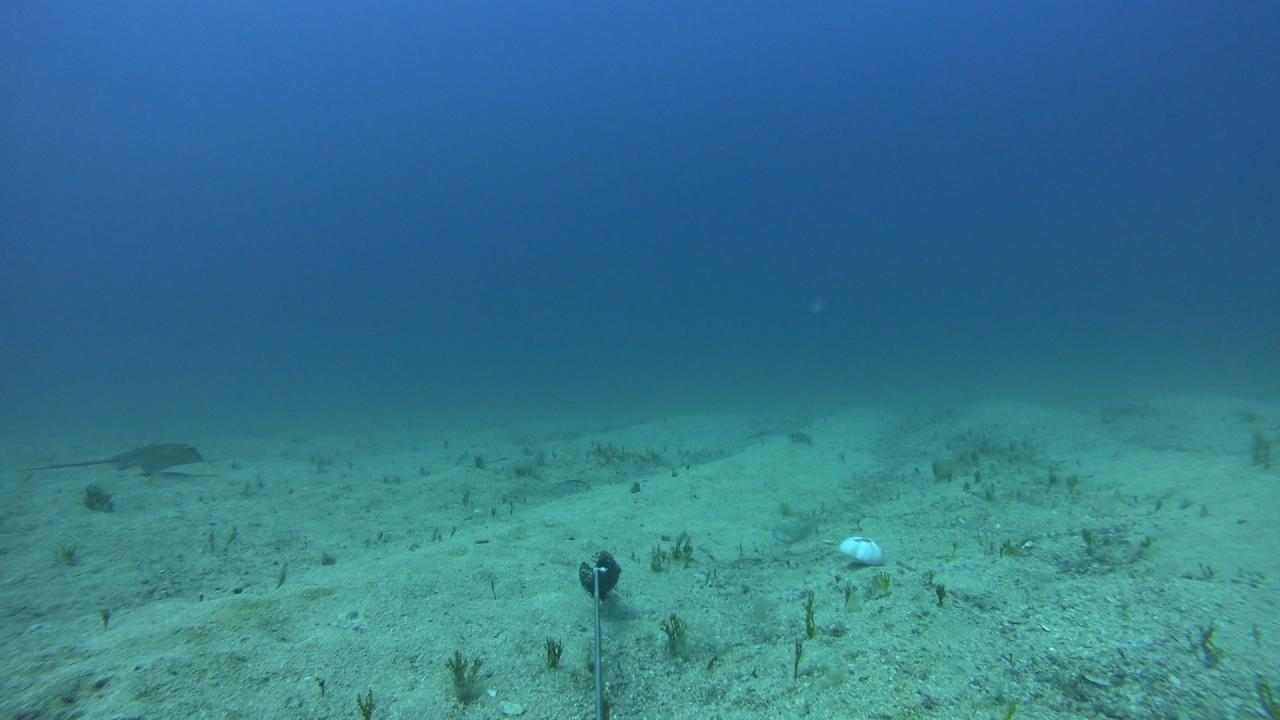dasyatis: (10, 440, 205, 473)
